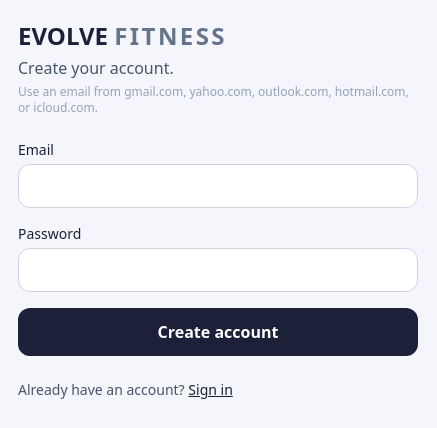
Scenario: SignUpScreen domain pre-check › blocks sign-up when the password is too short
Step 1. Type "someone@gmail.com" into the field labelled "Email" → (218, 186), box [18, 164, 418, 208]
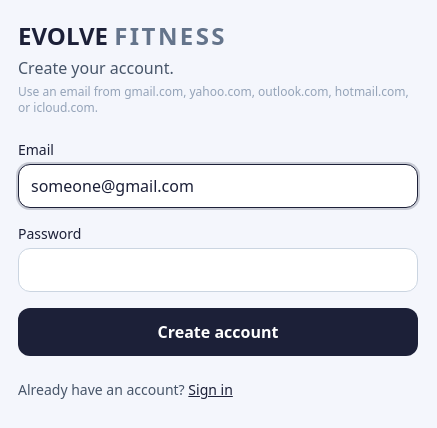
Step 2. Type "123" into the password field labelled "Password" → (218, 270), box [18, 248, 418, 292]
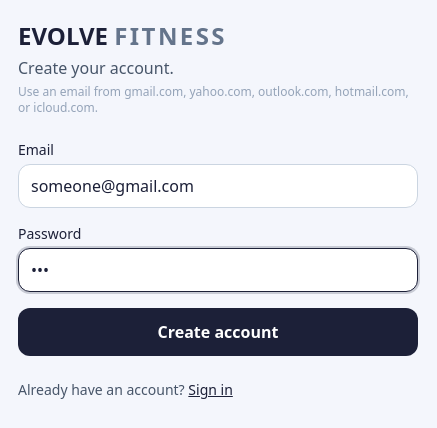
Step 3. Click the button "Create account" → (218, 332), box [18, 308, 418, 356]
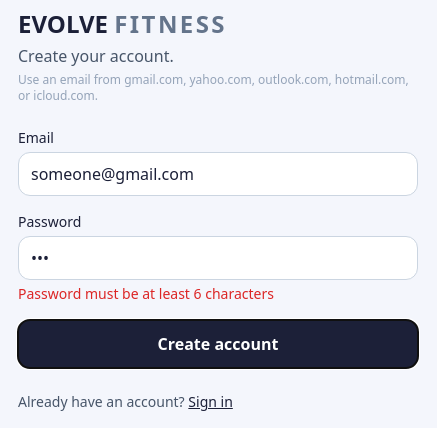
Expected: the text "Password must be at least 6 characters" is shown, [18, 284, 274, 303]
